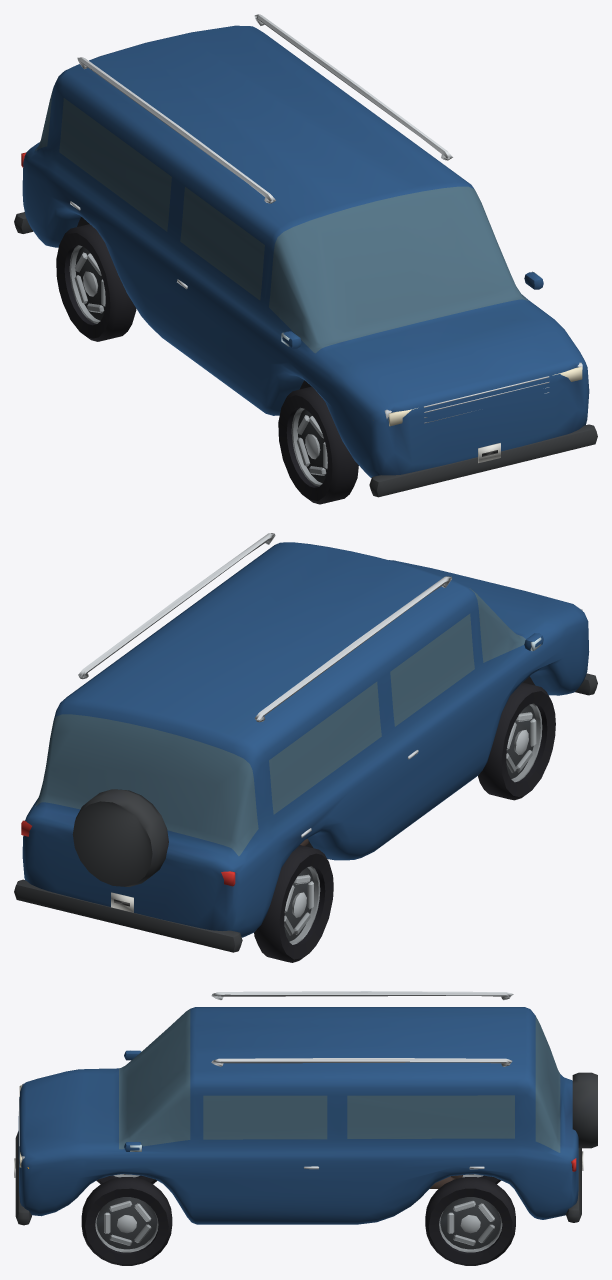
Rendered from veh-suv.glb.
3 renders of one model, top to bottom at view 1: azimuth 30°, elevation 25°; view 2: azimuth 150°, elevation 25°; view 3: azimuth 270°, elevation 25°, orthographic. The views are drawn at different scales.
Visible parts, largest first — view 1: body, wheel1, wheel3; view 2: body, wheel3, wheel1; view 3: body, wheel0, wheel2.
Boxes of the visible parts, x1=… form: body: x1=14, y1=14, x2=597, y2=497; wheel1: x1=278, y1=386, x2=358, y2=504; wheel3: x1=56, y1=224, x2=136, y2=341; body: x1=14, y1=533, x2=597, y2=952; wheel3: x1=254, y1=845, x2=333, y2=962; wheel1: x1=478, y1=682, x2=555, y2=800; body: x1=14, y1=991, x2=597, y2=1225; wheel0: x1=81, y1=1177, x2=172, y2=1265; wheel2: x1=425, y1=1177, x2=515, y2=1265.
Bounding box in the file's own units: 1.78 × 1.74 × 4.59.
